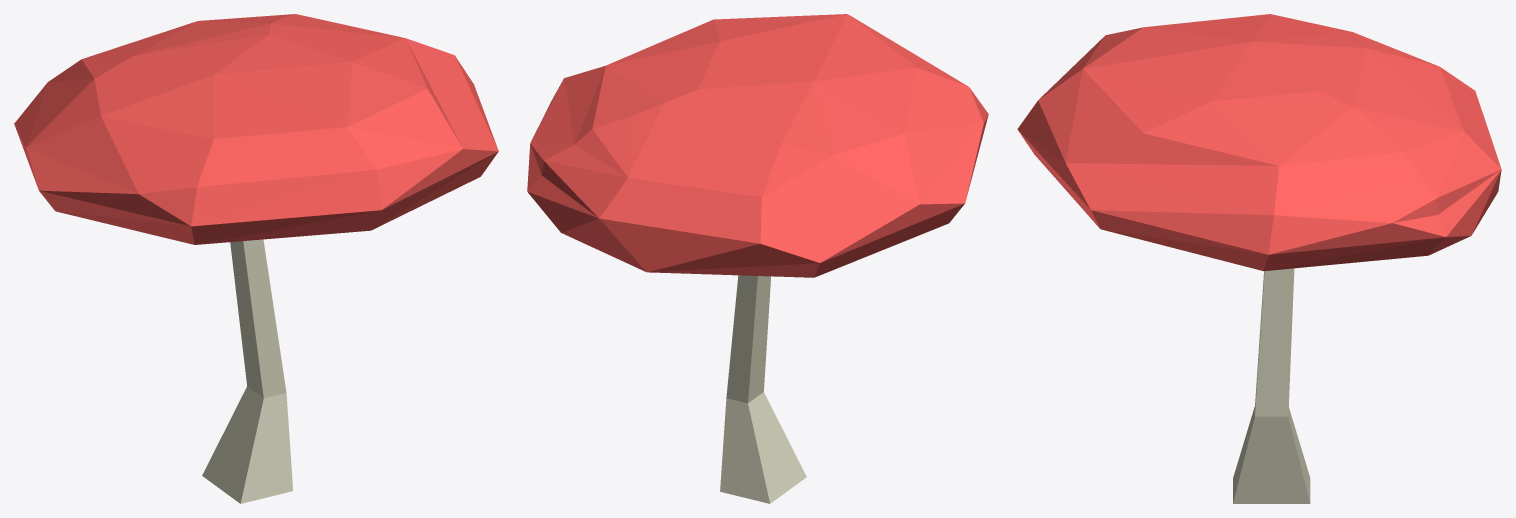
Rendered from Mushroom1.fbx.
The picture shows the model from 3 angles, left to right: view 1: azimuth 30°, elevation 25°; view 2: azimuth 150°, elevation 25°; view 3: azimuth 270°, elevation 25°; orthographic projection. The views are drawn at different scales.
Parts seen in each view (by area): view 1: Mushroom1; view 2: Mushroom1; view 3: Mushroom1.
Part boxes in pixels (x1,y1,x2,y2): Mushroom1: (14,14,498,503); Mushroom1: (527,14,988,503); Mushroom1: (1017,14,1501,503).
Size of the model in its own units: 16.14 by 15.12 by 15.5.
